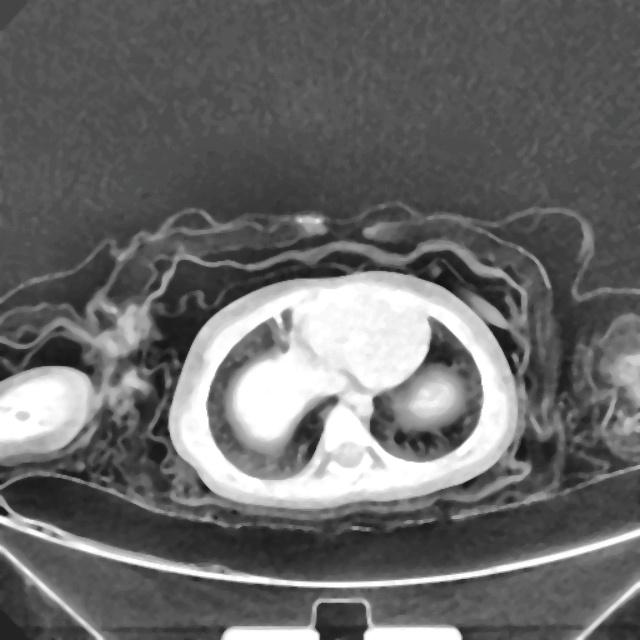covid: (166, 268, 520, 513)
